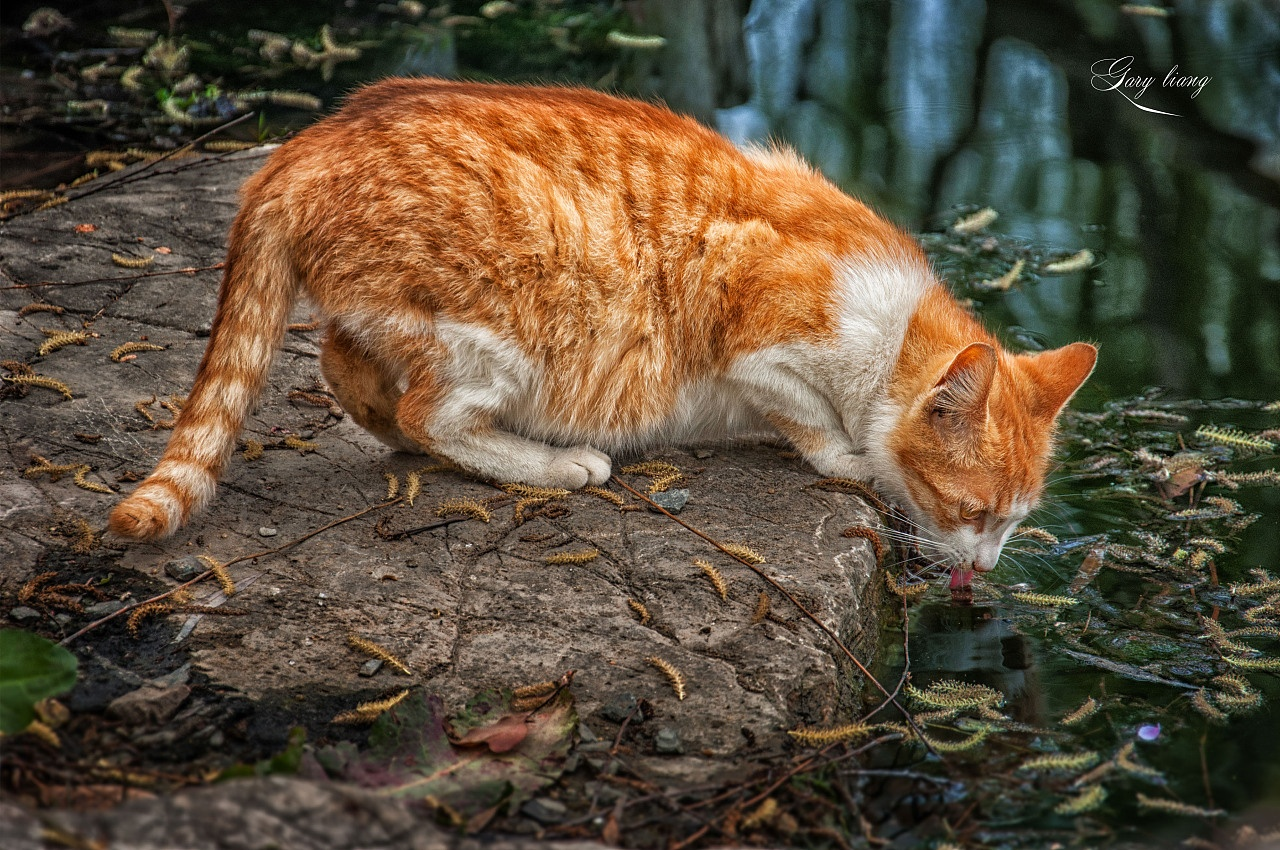cat: (110, 73, 1103, 575)
